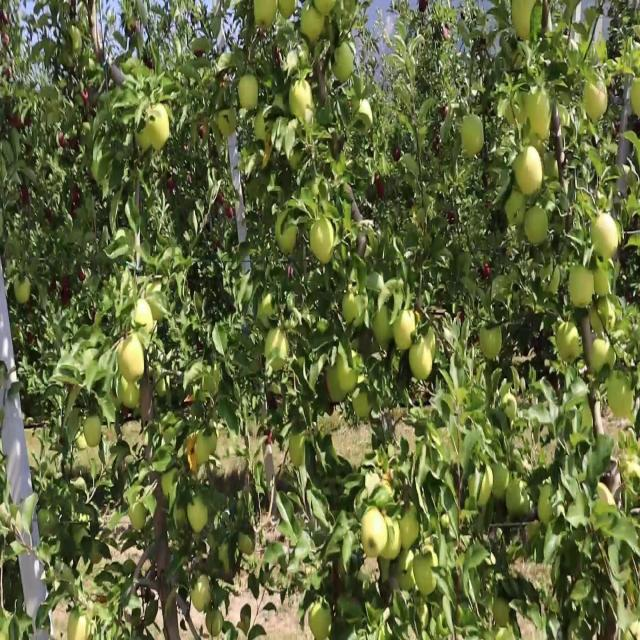apple: (592, 213, 621, 261), (516, 149, 543, 199), (528, 92, 554, 142), (116, 334, 144, 379), (556, 319, 583, 364), (364, 504, 385, 558), (416, 547, 438, 597), (312, 220, 336, 265), (524, 206, 549, 249), (148, 106, 171, 151), (512, 0, 536, 43), (608, 383, 635, 420), (268, 327, 290, 372), (332, 42, 355, 85), (300, 7, 325, 46), (336, 355, 359, 396), (468, 469, 492, 508), (460, 120, 484, 158), (584, 85, 608, 123), (308, 604, 333, 639), (572, 270, 593, 311), (412, 341, 433, 382), (380, 519, 400, 562), (592, 298, 617, 332), (120, 376, 143, 412), (396, 312, 416, 352), (396, 554, 416, 592), (192, 575, 212, 613), (292, 85, 313, 121), (276, 220, 297, 256), (372, 312, 393, 348), (588, 341, 610, 375), (400, 511, 420, 548), (508, 191, 527, 229), (240, 78, 260, 114), (188, 497, 208, 533), (592, 263, 612, 299), (188, 433, 204, 476), (136, 298, 154, 334), (344, 291, 362, 325), (288, 433, 305, 469), (256, 1, 277, 30), (352, 391, 372, 420), (592, 305, 612, 334), (220, 106, 237, 139), (544, 156, 560, 190), (68, 618, 93, 639), (84, 419, 102, 448), (260, 291, 275, 325), (16, 277, 32, 306), (256, 142, 272, 171), (136, 127, 152, 155), (132, 504, 148, 532), (496, 597, 511, 626), (52, 611, 68, 638), (416, 604, 430, 633), (240, 533, 256, 556), (316, 0, 336, 18), (280, 0, 296, 21), (632, 78, 640, 119), (156, 511, 167, 537), (8, 113, 22, 130), (376, 177, 385, 199), (608, 348, 616, 370), (416, 305, 424, 325)
